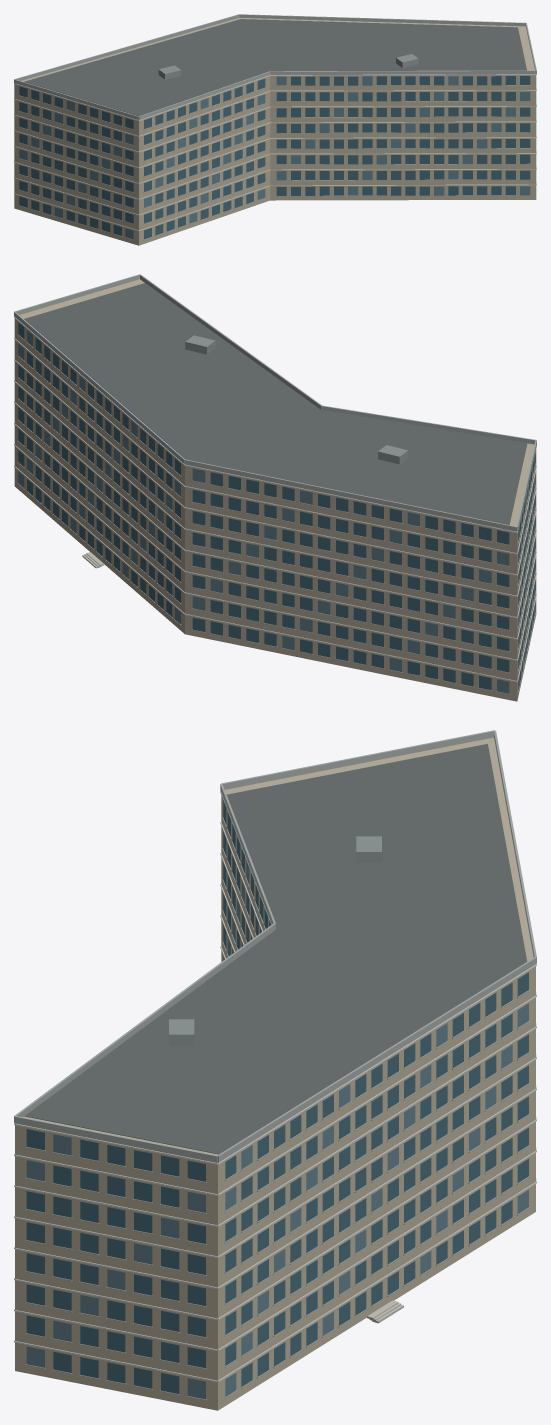
File: 软件园与科创楼-019.glb
3 renders of one model, top to bottom at view 1: azimuth 30°, elevation 25°; view 2: azimuth 150°, elevation 25°; view 3: azimuth 270°, elevation 25°, orthographic. The views are drawn at different scales.
Visible parts, largest first — view 1: 软件园与科创楼-019; view 2: 软件园与科创楼-019; view 3: 软件园与科创楼-019.
Boxes of the visible parts, box(x1,y1,x2,y2) form: 软件园与科创楼-019: box(14, 14, 536, 245); 软件园与科创楼-019: box(14, 274, 536, 701); 软件园与科创楼-019: box(14, 730, 536, 1410).
Bounding box in the file's own units: 110 × 31.42 × 57.21.
